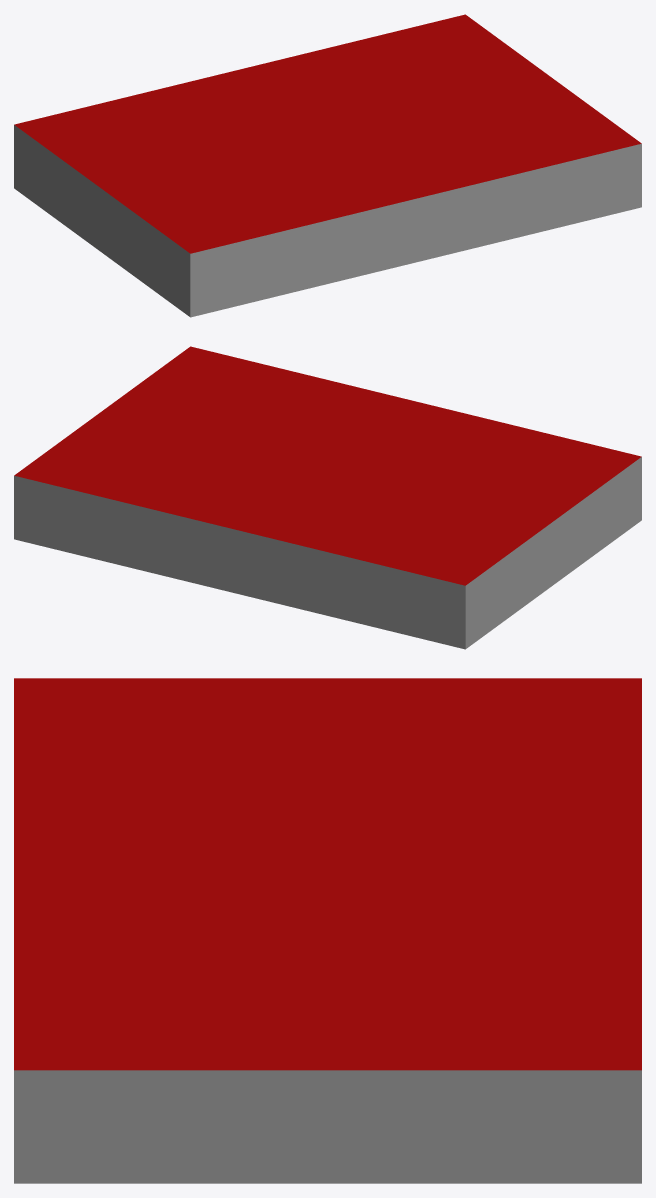
File: Ground_Multiplier_C.fbx
3 renders of one model, top to bottom at view 1: azimuth 30°, elevation 25°; view 2: azimuth 150°, elevation 25°; view 3: azimuth 270°, elevation 25°, orthographic. The views are drawn at different scales.
Visible parts, largest first — view 1: Ground_Multiplier_C; view 2: Ground_Multiplier_C; view 3: Ground_Multiplier_C.
Boxes of the visible parts, x1=… form: Ground_Multiplier_C: x1=14, y1=14, x2=641, y2=317; Ground_Multiplier_C: x1=14, y1=346, x2=641, y2=649; Ground_Multiplier_C: x1=14, y1=678, x2=641, y2=1183.
Size of the model in its own units: 241 by 32.46 by 163.
